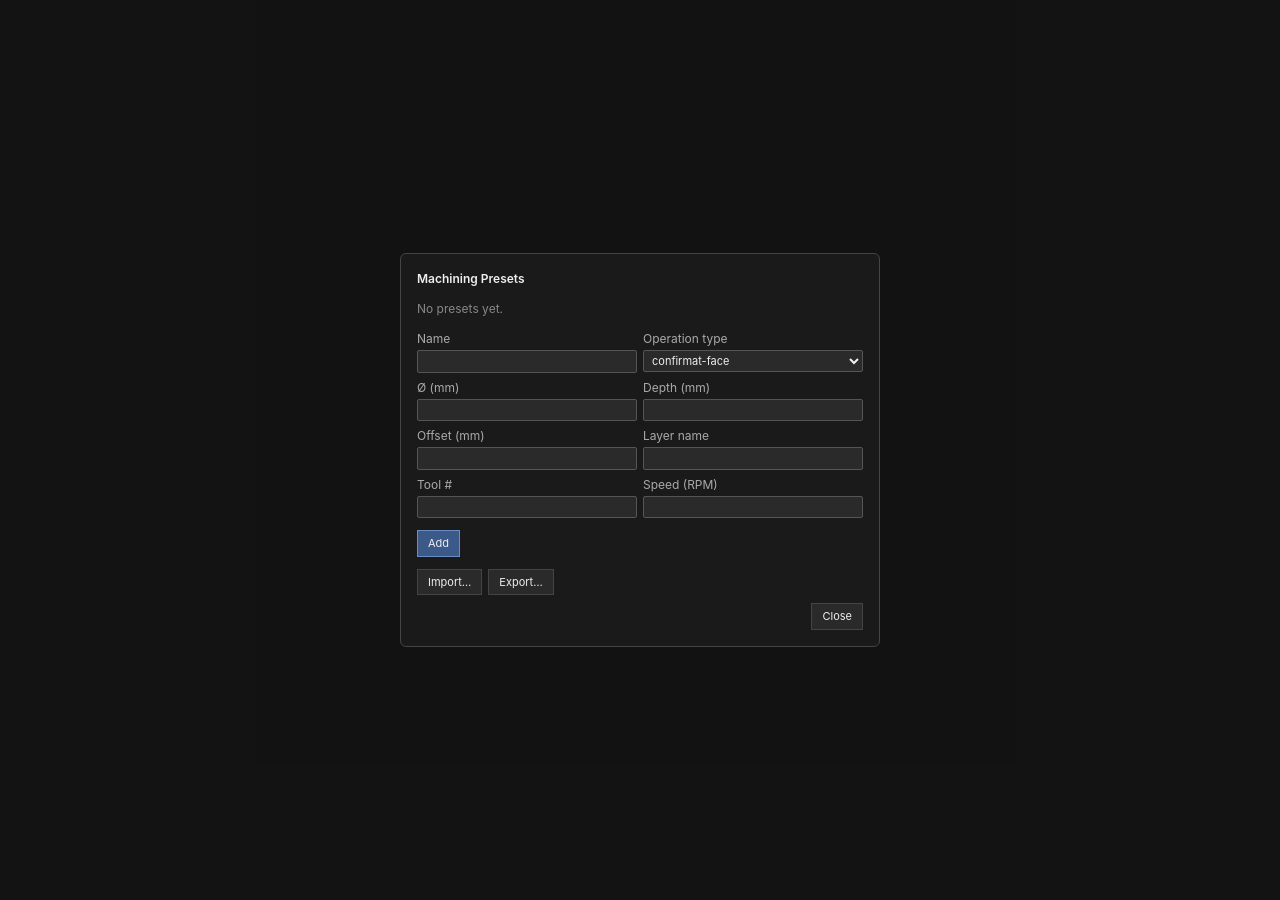
Test case: MachiningPresetsDialog › add fills the form and creates a preset with only the provided optional fields present
The width and height of the screenshot is (1280, 900).
Type "My Preset" into the field labelled "Name". click: (527,362)
box: [417,350,637,373]
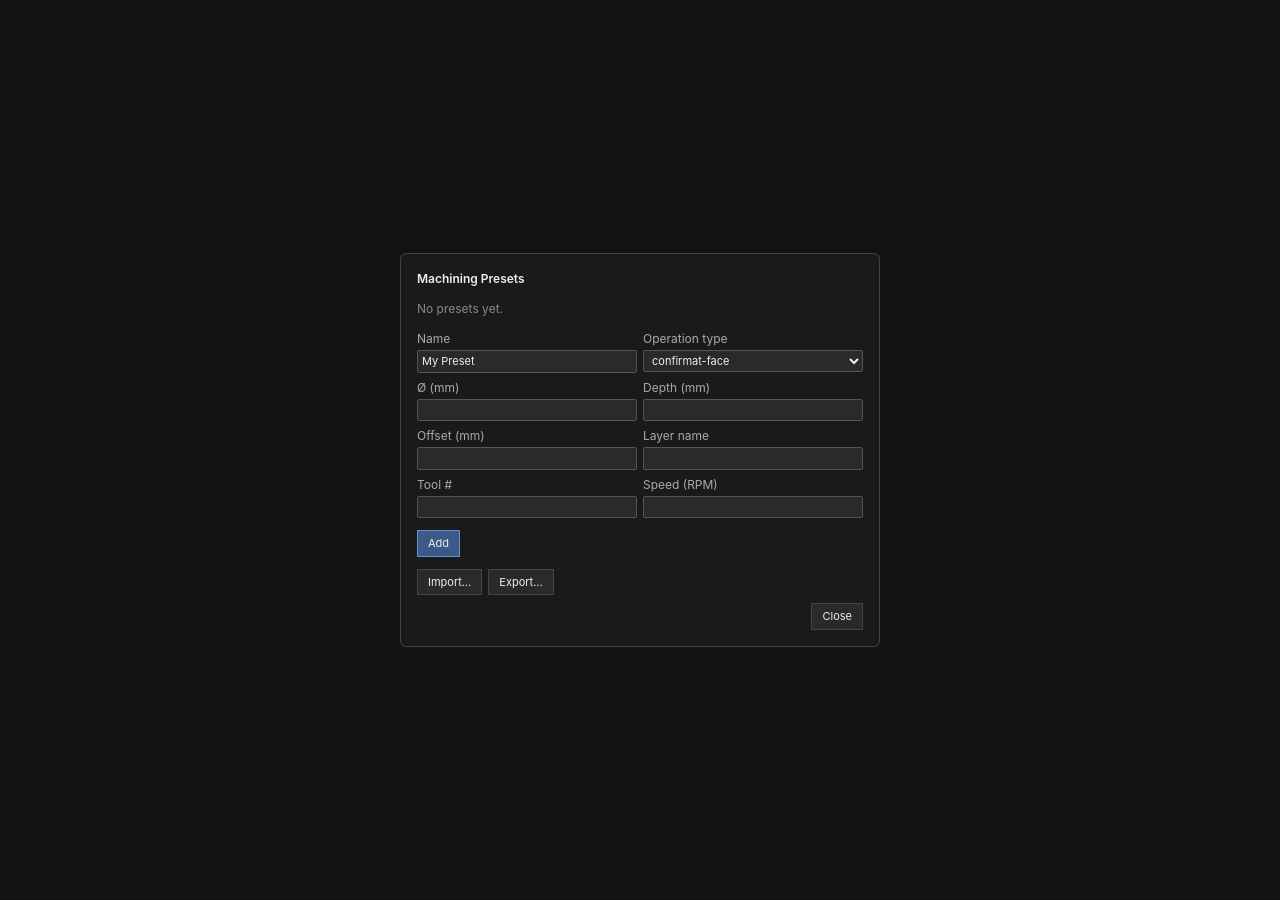
Select "hingeCup" in the dropdown labelled "Operation type". click: (753,361)
box: [643,350,863,372]
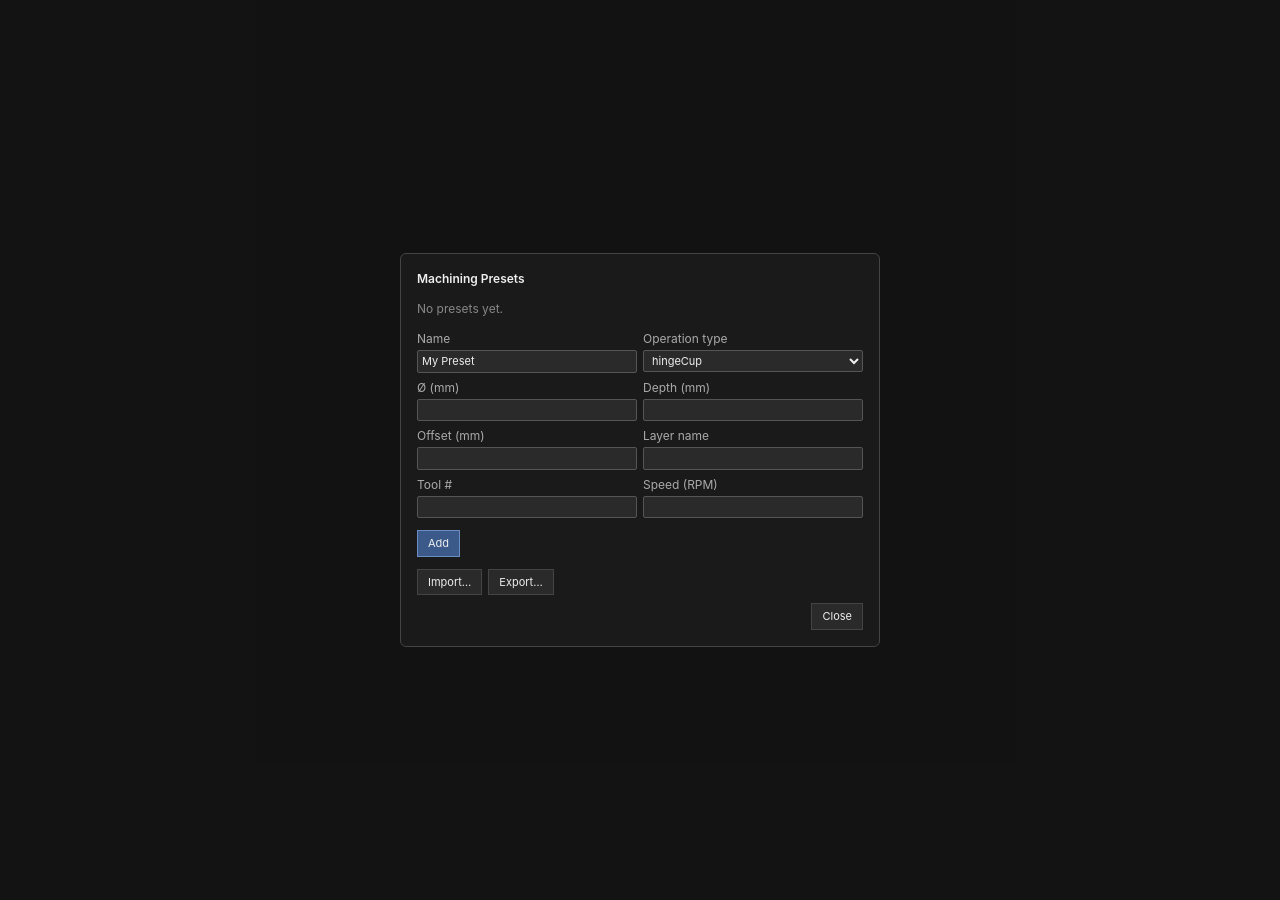
Type "35" into the number field labelled "Ø (mm)". click: (527,410)
box: [417,399,637,421]
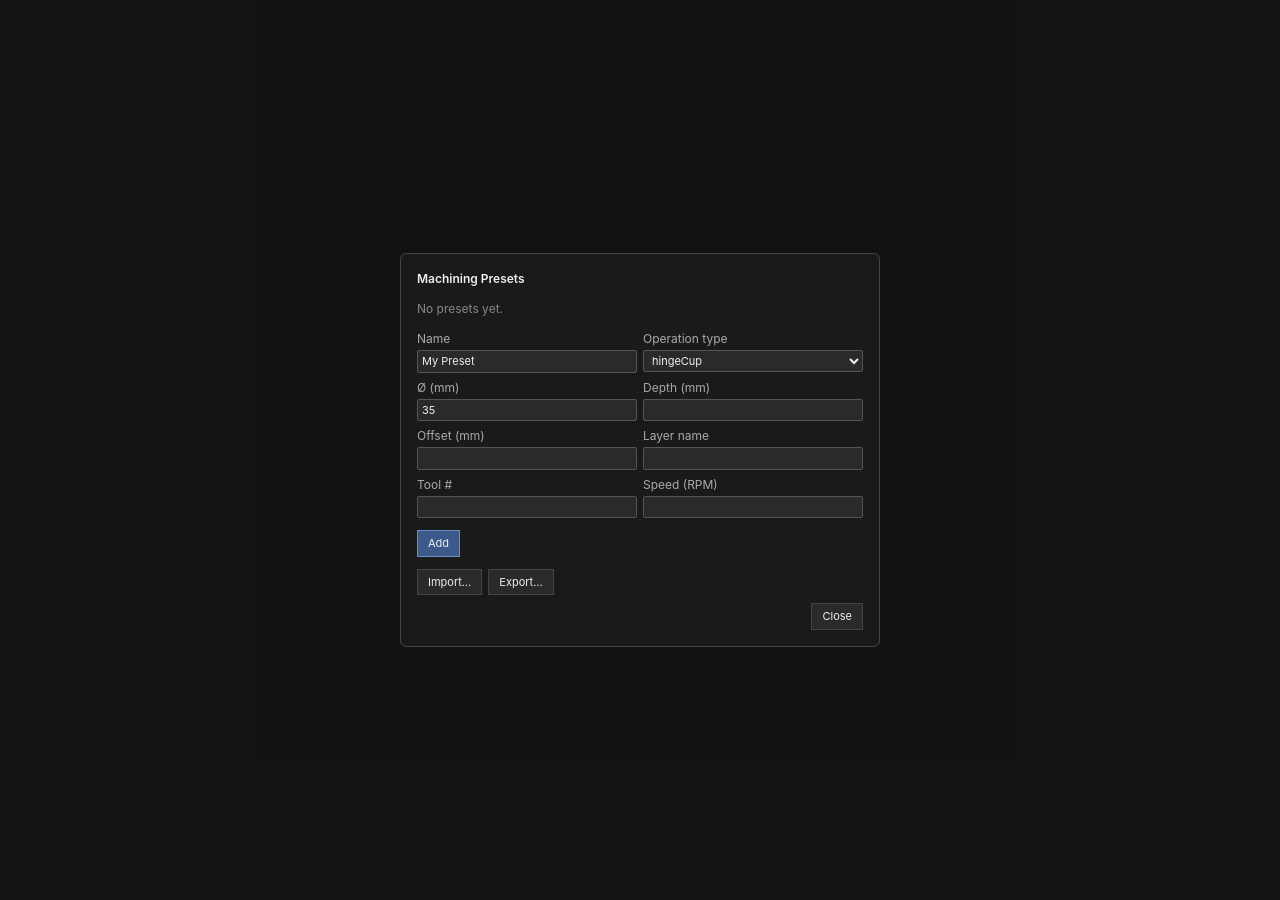
Type "12" into the number field labelled "Depth (mm)". click: (753,410)
box: [643,399,863,421]
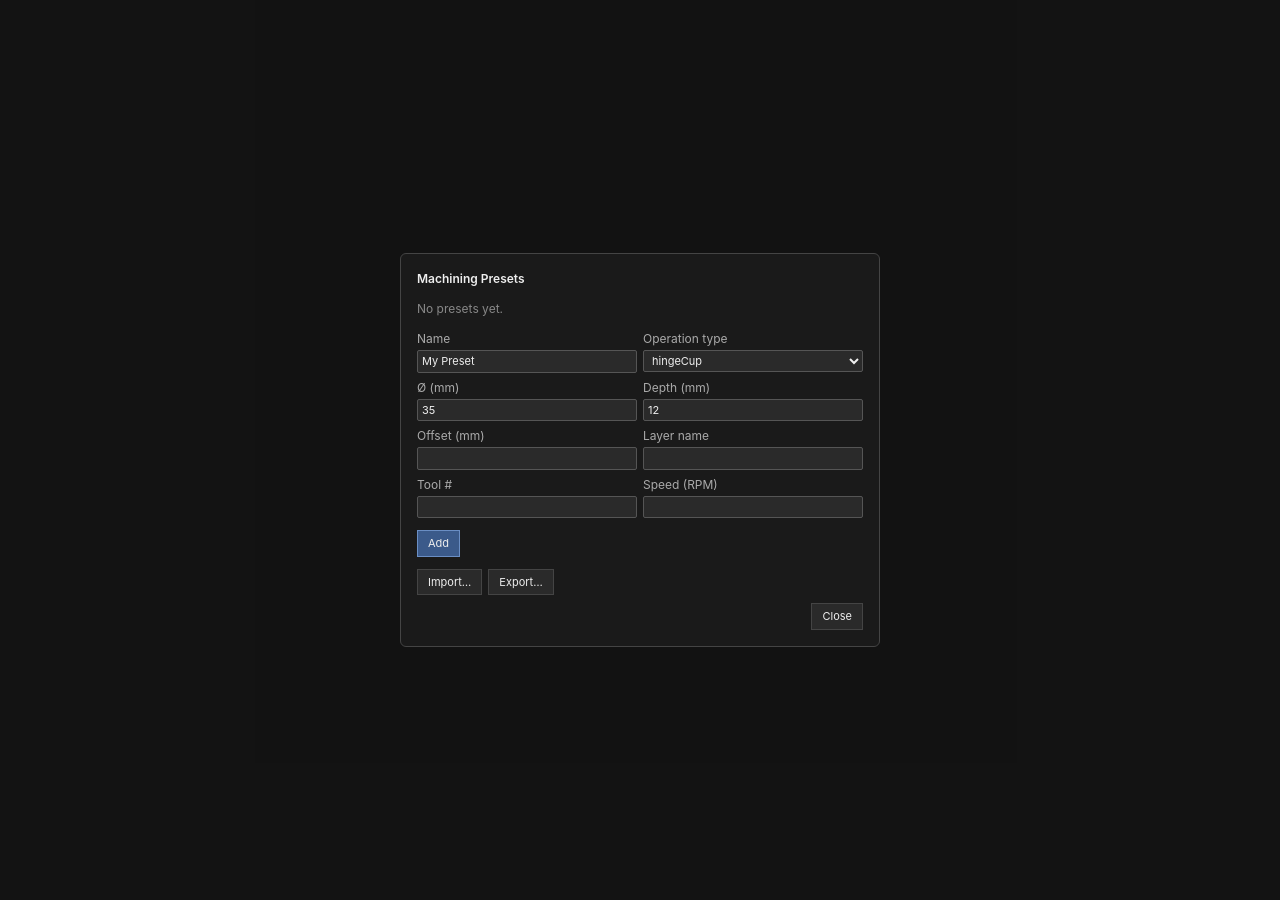
Type "HINGE_CUP" into the field labelled "Layer name". click: (753,459)
box: [643,447,863,470]
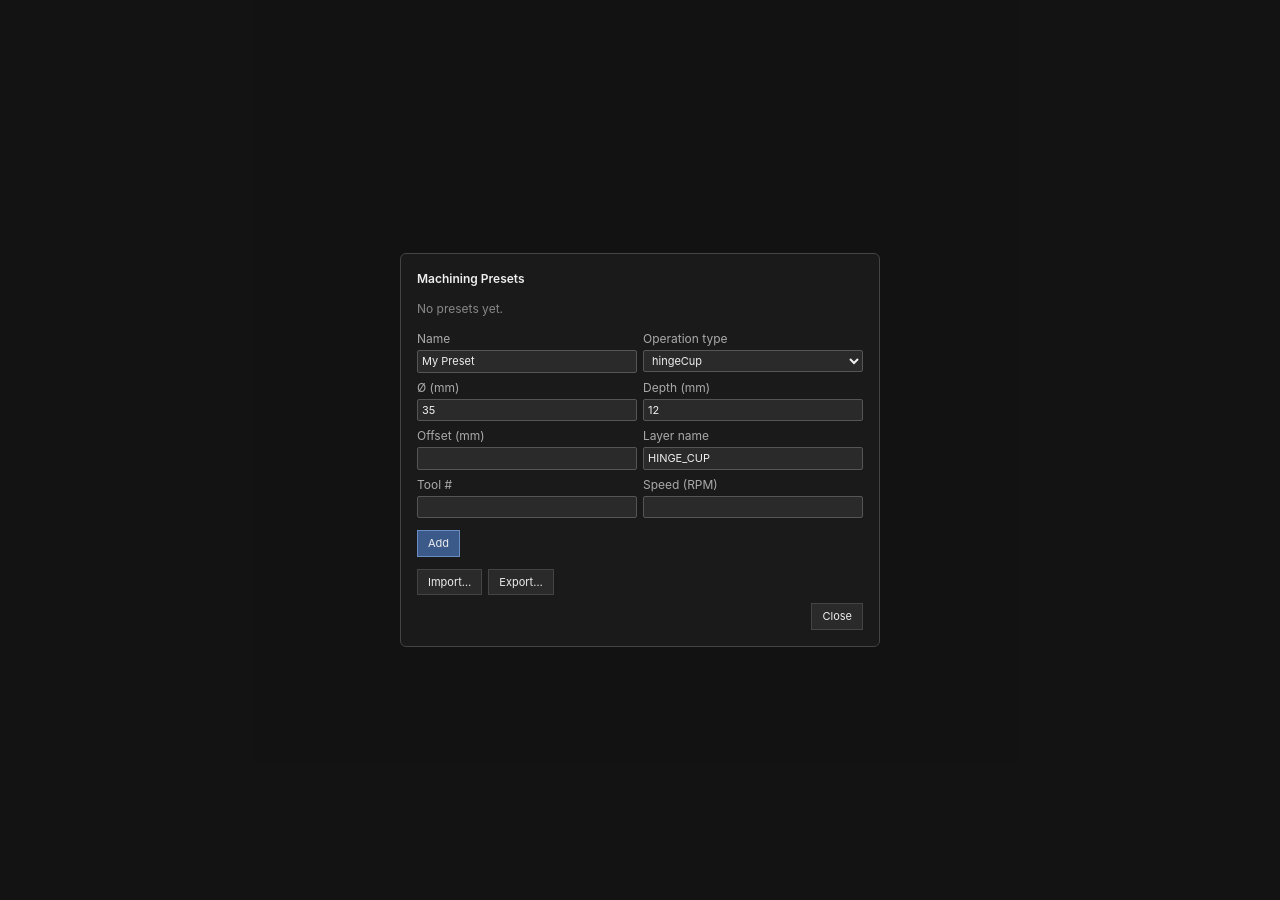
// offset/toolNumber/speed left blank
Click the button "Add". click: (439,544)
box: [417,530,460,557]
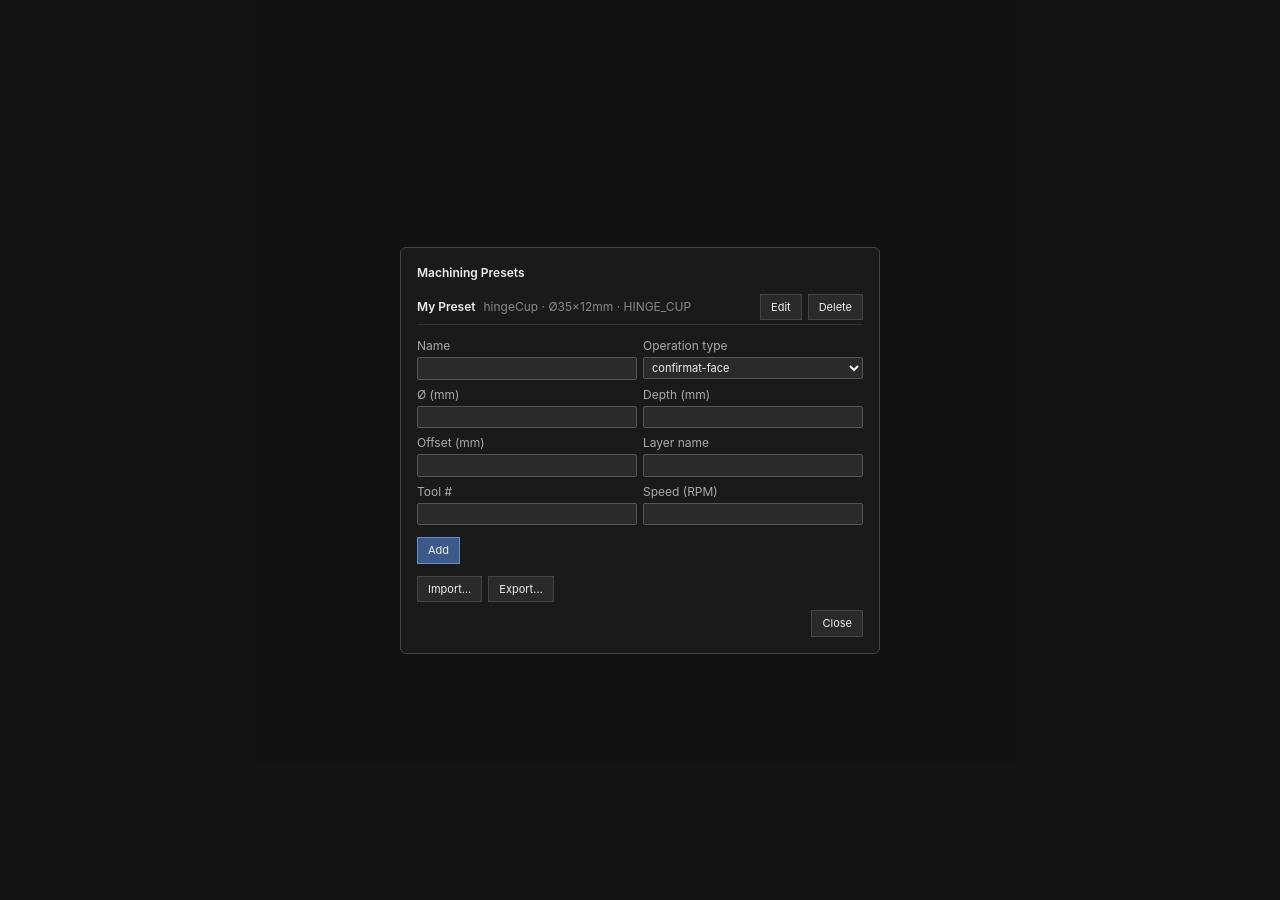
Result: the text "My Preset" is shown at [417,299,476,314]
